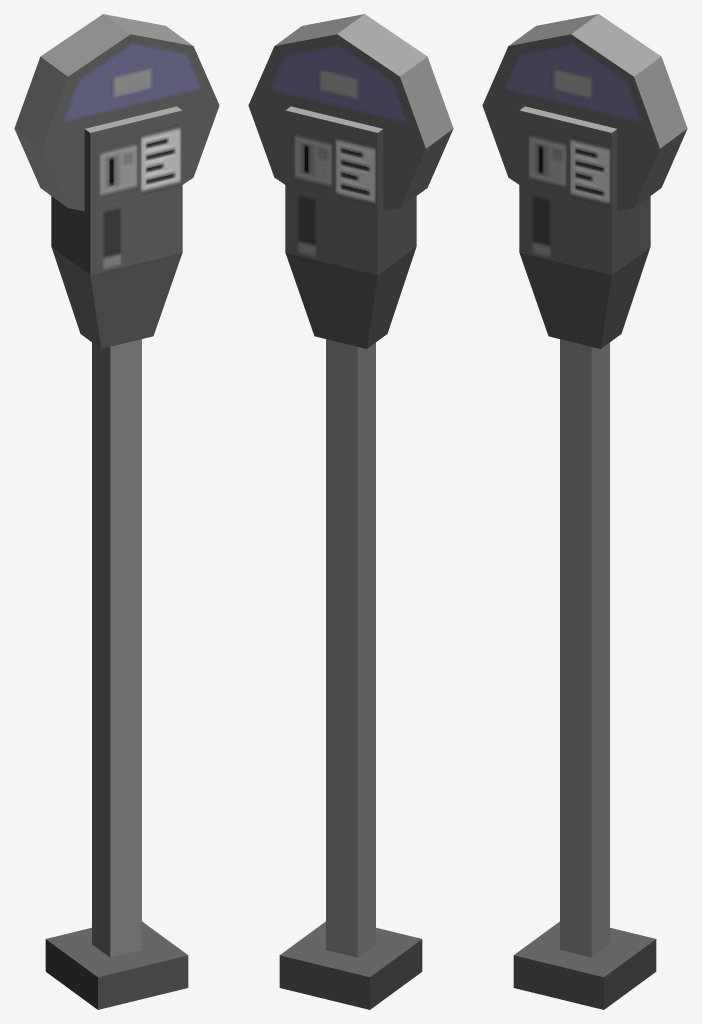
Rendered from SM_ParkingMeter_Single_01.fbx.
3 renders of one model, left to right at view 1: azimuth 30°, elevation 25°; view 2: azimuth 150°, elevation 25°; view 3: azimuth 330°, elevation 25°, orthographic.
Parts seen in each view (by area): view 1: SM_ParkingMeter_Single_01; view 2: SM_ParkingMeter_Single_01; view 3: SM_ParkingMeter_Single_01.
Boxes of the visible parts, x1,y1,x2,y2 form: SM_ParkingMeter_Single_01: (14,14,219,1009); SM_ParkingMeter_Single_01: (248,14,453,1009); SM_ParkingMeter_Single_01: (482,14,687,1009).
Size of the model in its own units: 0.4518 by 2.32 by 0.2307.
